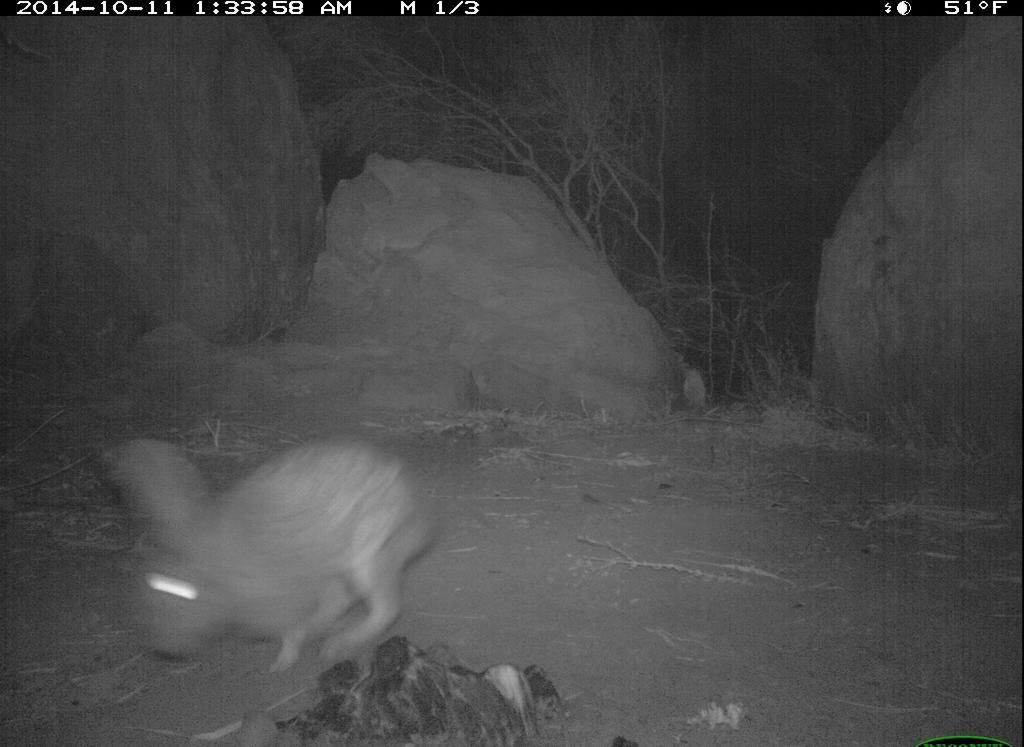rabbit: (93, 411, 452, 680)
